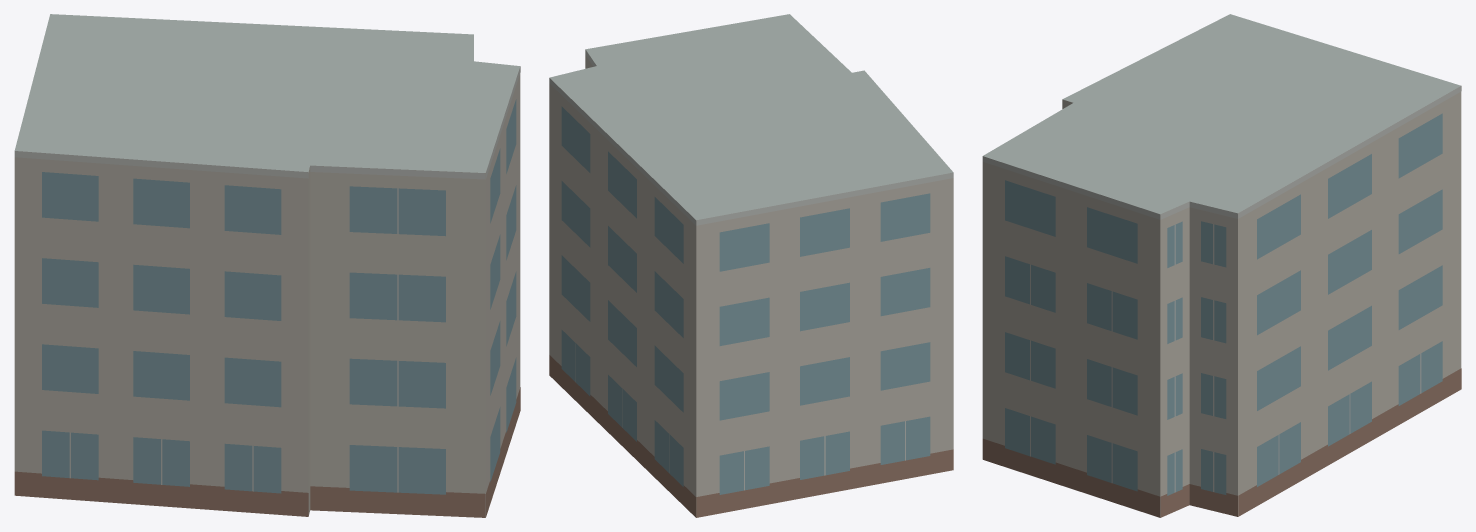
File: survey-upis-32498775.glb
The picture shows the model from 3 angles, left to right: view 1: azimuth 30°, elevation 25°; view 2: azimuth 150°, elevation 25°; view 3: azimuth 270°, elevation 25°; orthographic projection. The views are drawn at different scales.
Parts seen in each view (by area): view 1: survey-upis-32498775.tmp; view 2: survey-upis-32498775.tmp; view 3: survey-upis-32498775.tmp.
Boxes of the visible parts, x1,y1,x2,y2 form: survey-upis-32498775.tmp: (14,14,520,517); survey-upis-32498775.tmp: (549,14,953,517); survey-upis-32498775.tmp: (982,14,1461,517).
Size of the model in its own units: 18.62 by 13.15 by 18.81.
